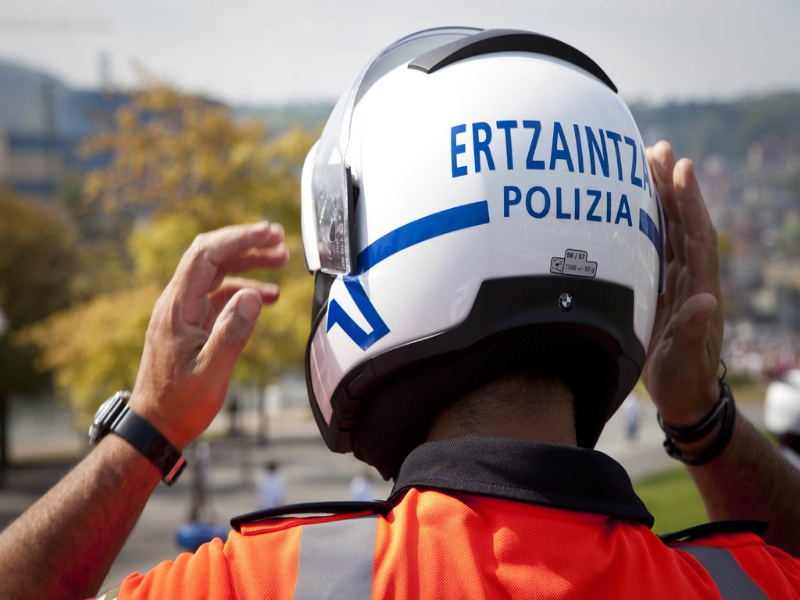Baret: (317, 30, 655, 344)
